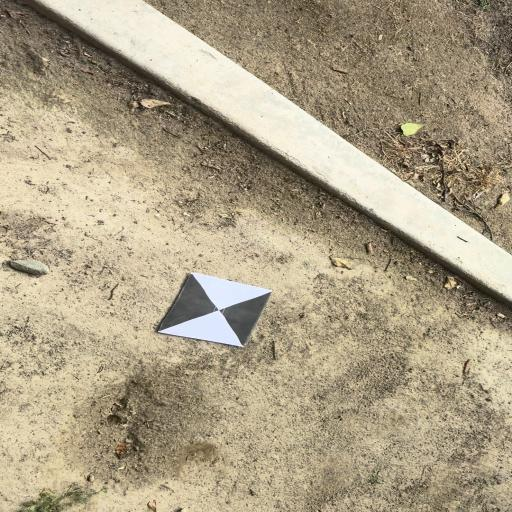target: (157, 272, 274, 347)
